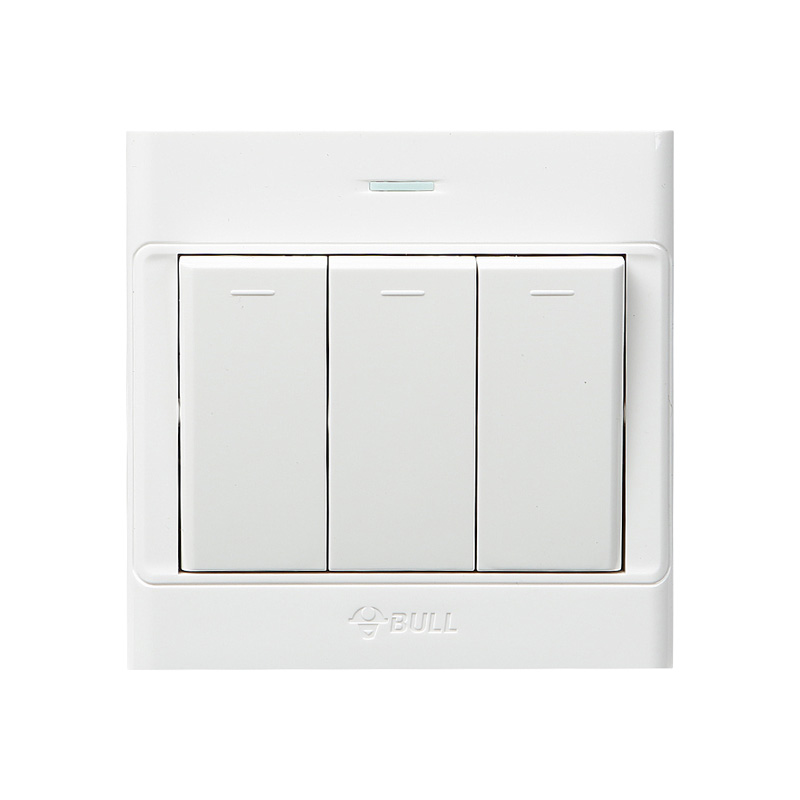button: (122, 129, 680, 674)
